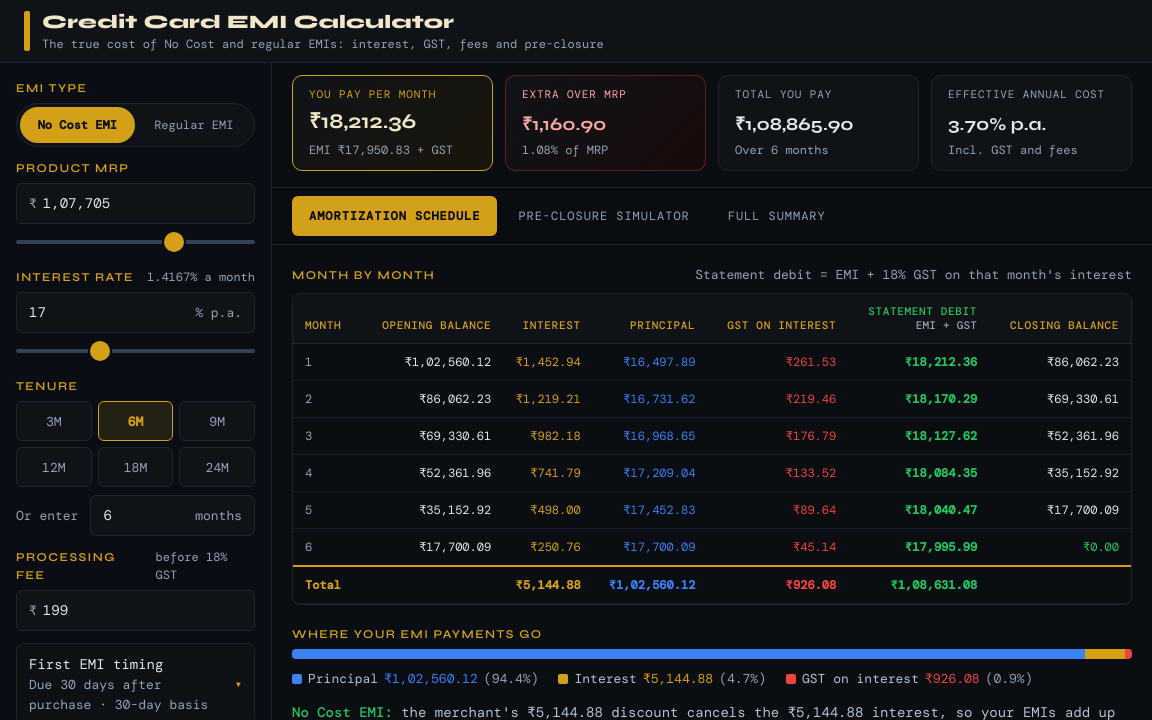
Test: number fields keep the user's draft › moves MRP along a log scale from the slider
Set the slider named "Product MRP slider" to "0" at (24, 242), box [16,228,255,256]
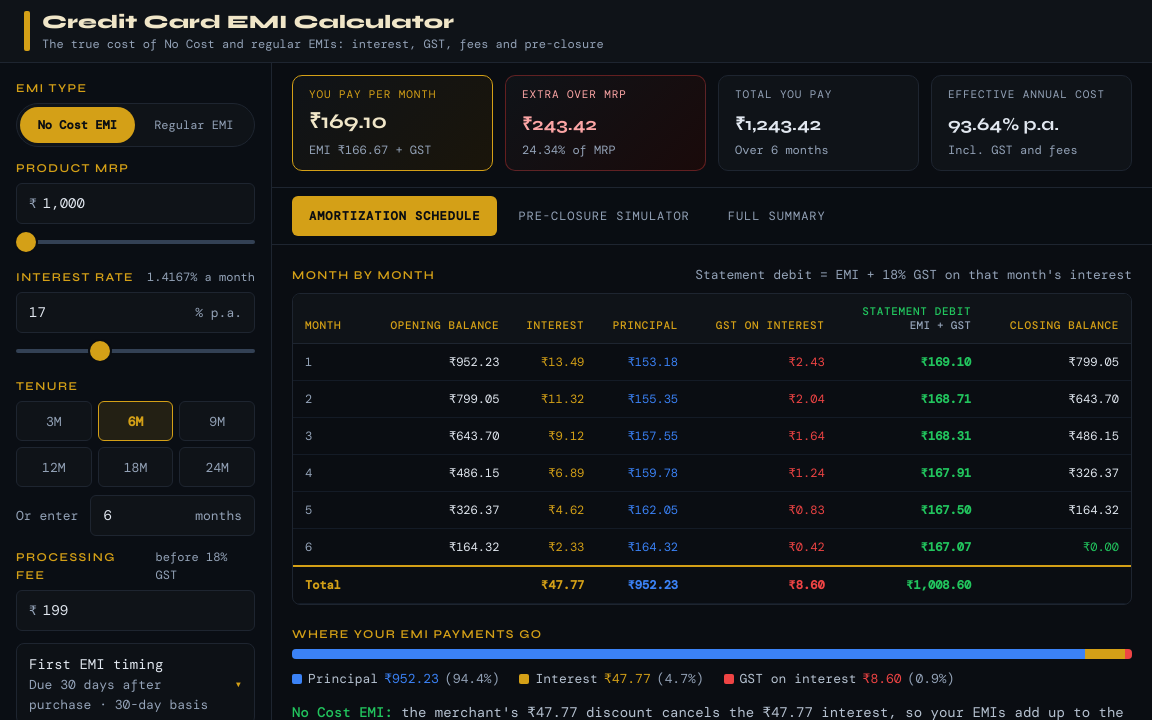
Expected: the field named "Product MRP (₹)" holds "1,000", [43,184,242,223]
Set the slider named "Product MRP slider" to "1000" at (247, 242), box [16,228,255,256]
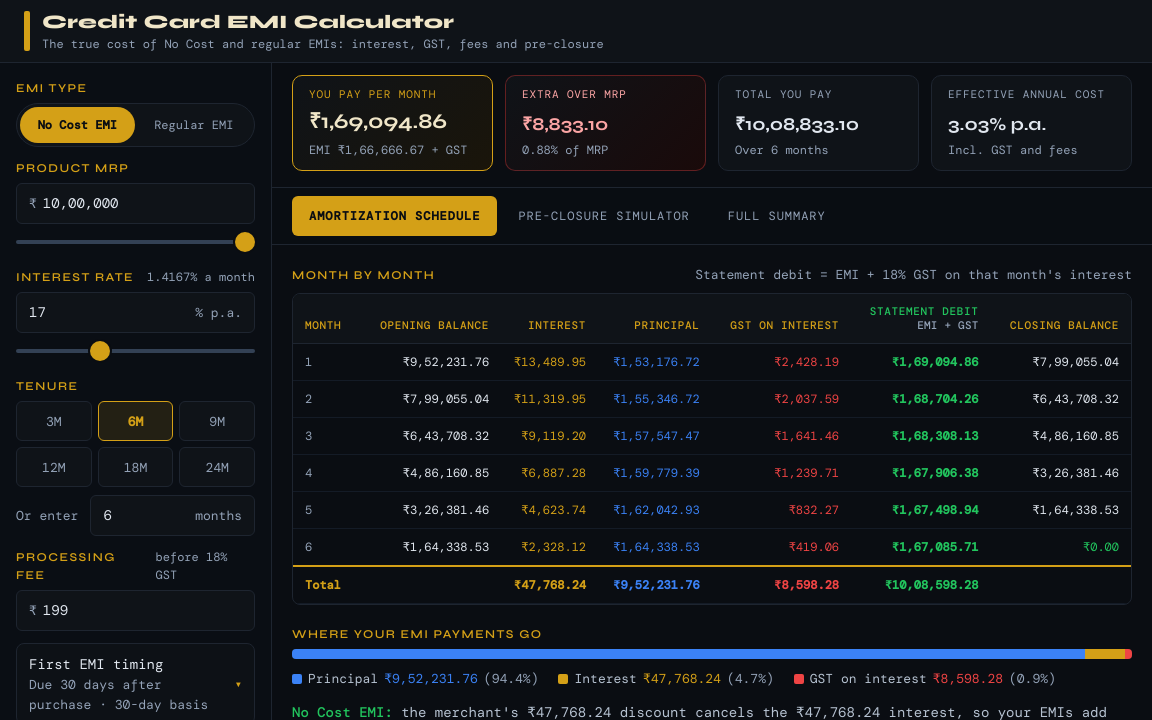
Expected: the field named "Product MRP (₹)" holds "10,00,000", [43,184,242,223]
Set the slider named "Product MRP slider" to "500" at (136, 242), box [16,228,255,256]
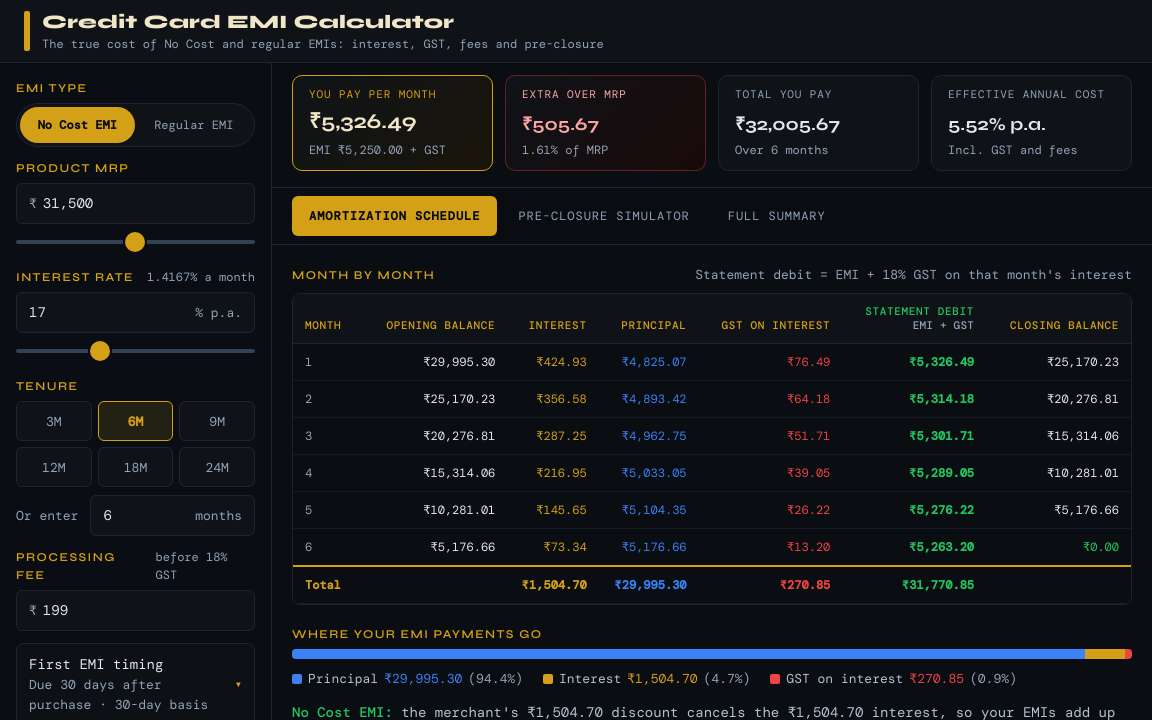
Expected: the field named "Product MRP (₹)" holds "31,500", [43,184,242,223]
